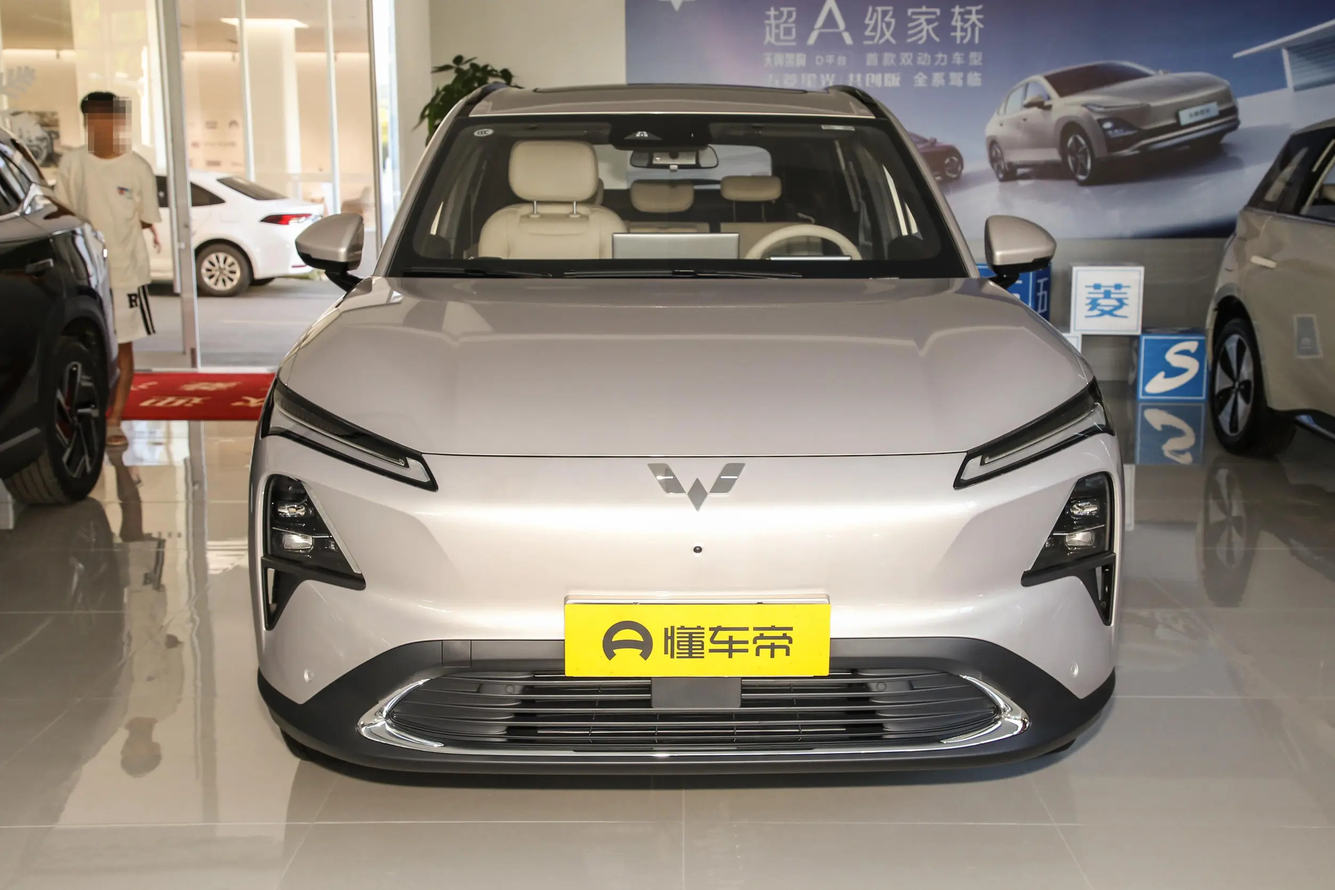SGMW: (648, 463, 746, 510)
